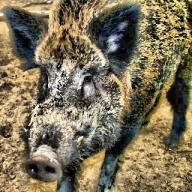boar: (1, 0, 192, 191)
